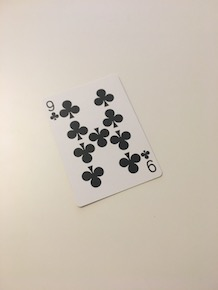NineOfClubs: (41, 70, 165, 211)
